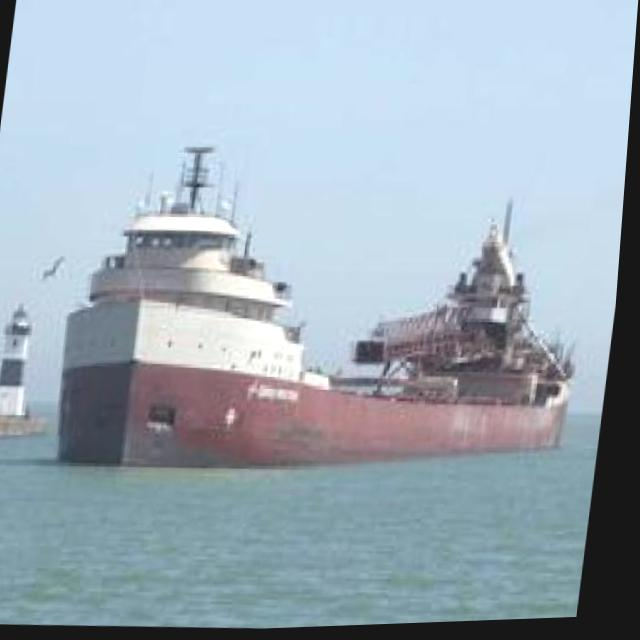ship2: (64, 149, 583, 473)
